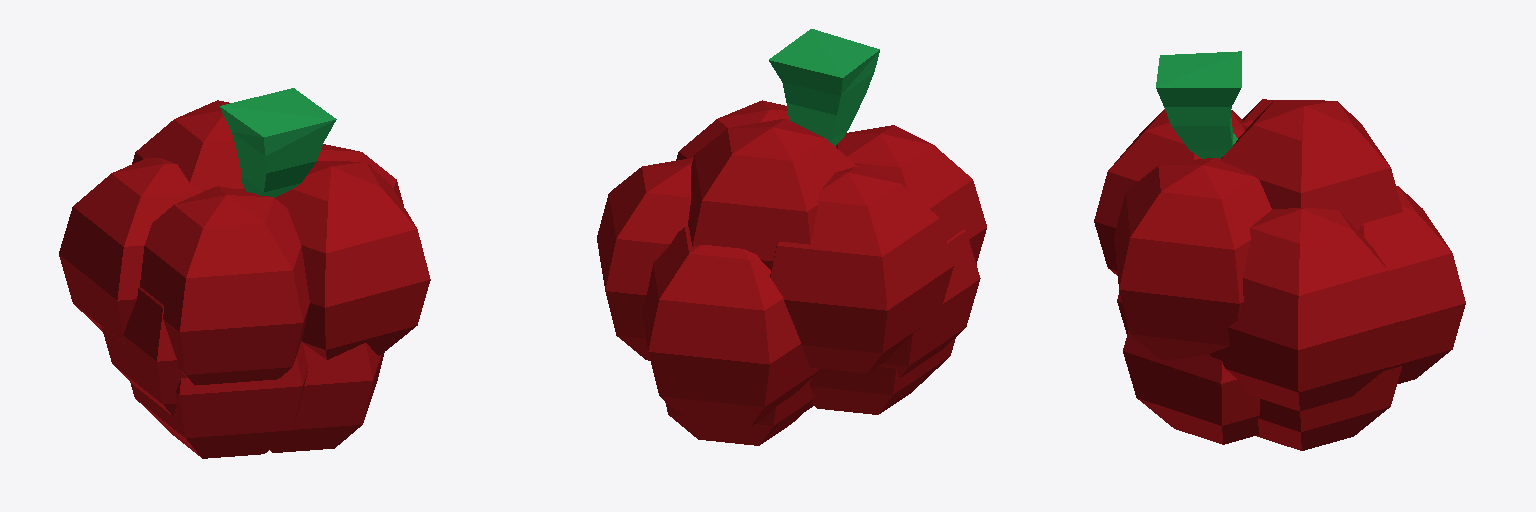
Rendered from Bonus_SpeedUp.obj.
3 views of the same model, side by side, from view 1: azimuth 30°, elevation 25°; view 2: azimuth 150°, elevation 25°; view 3: azimuth 270°, elevation 25° (orthographic).
Parts seen in each view (by area): view 1: Sphere.006_Sphere.014, Sphere.005_Sphere.002, Sphere.007_Sphere.013, Sphere.000_Sphere.016, Plane, Sphere.008_Sphere.018, Sphere.003_Sphere.012, Sphere.001_Sphere.015, Sphere.010_Sphere.011; view 2: Sphere.007_Sphere.013, Sphere.002_Sphere.020, Sphere.003_Sphere.012, Sphere.010_Sphere.011, Plane, Sphere.006_Sphere.014, Sphere.000_Sphere.016, Sphere.001_Sphere.015, Sphere.004_Sphere.017, Sphere.005_Sphere.002; view 3: Sphere.010_Sphere.011, Sphere.005_Sphere.002, Sphere.003_Sphere.012, Sphere.002_Sphere.020, Sphere.008_Sphere.018, Plane, Sphere.004_Sphere.017, Sphere.006_Sphere.014.
Part boxes in pixels (bbox=[...]): Sphere.006_Sphere.014: bbox=[140, 186, 309, 385]; Sphere.005_Sphere.002: bbox=[275, 161, 430, 359]; Sphere.007_Sphere.013: bbox=[59, 157, 204, 343]; Sphere.000_Sphere.016: bbox=[130, 341, 307, 458]; Plane: bbox=[219, 88, 336, 197]; Sphere.008_Sphere.018: bbox=[270, 343, 384, 452]; Sphere.003_Sphere.012: bbox=[132, 100, 245, 191]; Sphere.001_Sphere.015: bbox=[101, 287, 186, 415]; Sphere.010_Sphere.011: bbox=[317, 144, 403, 205]; Sphere.007_Sphere.013: bbox=[770, 163, 953, 373]; Sphere.002_Sphere.020: bbox=[642, 227, 820, 426]; Sphere.003_Sphere.012: bbox=[688, 118, 857, 269]; Sphere.010_Sphere.011: bbox=[597, 158, 693, 360]; Plane: bbox=[769, 29, 879, 146]; Sphere.006_Sphere.014: bbox=[836, 125, 986, 264]; Sphere.000_Sphere.016: bbox=[810, 338, 955, 414]; Sphere.001_Sphere.015: bbox=[878, 229, 980, 377]; Sphere.004_Sphere.017: bbox=[665, 379, 813, 445]; Sphere.005_Sphere.002: bbox=[676, 100, 788, 160]; Sphere.010_Sphere.011: bbox=[1210, 208, 1401, 410]; Sphere.005_Sphere.002: bbox=[1114, 158, 1271, 359]; Sphere.003_Sphere.012: bbox=[1221, 100, 1402, 230]; Sphere.002_Sphere.020: bbox=[1359, 186, 1465, 383]; Sphere.008_Sphere.018: bbox=[1123, 330, 1259, 444]; Plane: bbox=[1156, 51, 1241, 158]; Sphere.004_Sphere.017: bbox=[1257, 366, 1401, 450]; Sphere.006_Sphere.014: bbox=[1094, 109, 1244, 275].
Bounding box in the file's own units: 3.52 × 3.67 × 3.49.